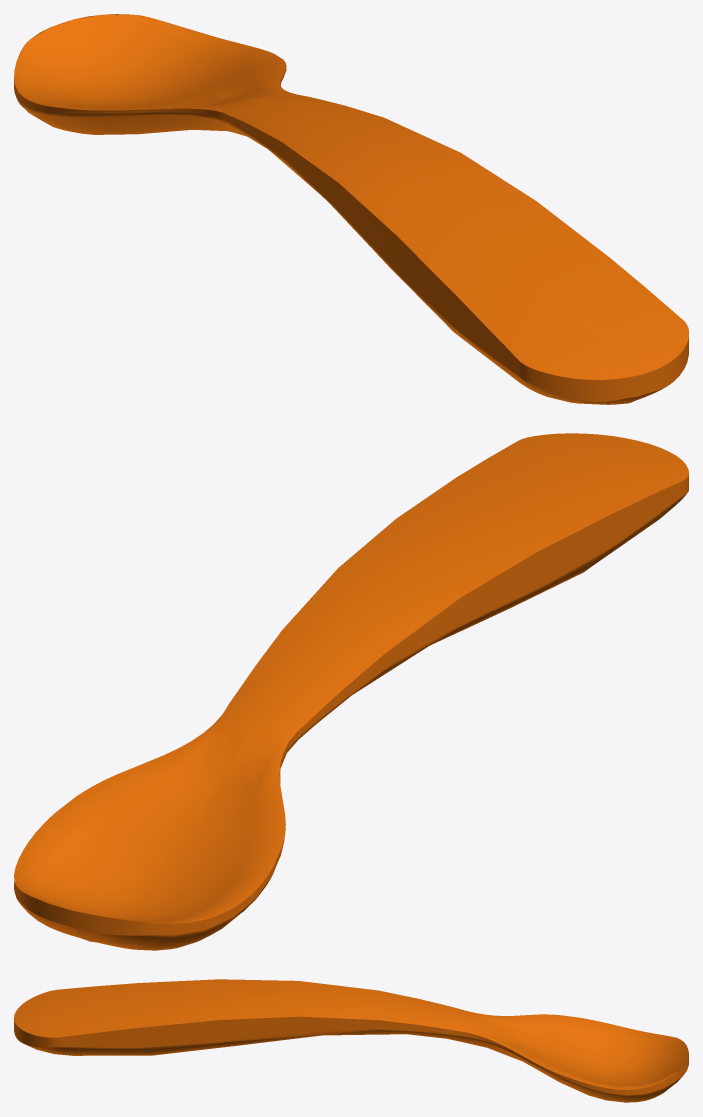
The picture shows the model from 3 angles, top to bottom: view 1: azimuth 30°, elevation 25°; view 2: azimuth 150°, elevation 25°; view 3: azimuth 270°, elevation 25°; orthographic projection. The views are drawn at different scales.
Parts seen in each view (by area): view 1: spuni1.1; view 2: spuni1.1; view 3: spuni1.1.
Boxes of the visible parts, x1,y1,x2,y2 form: spuni1.1: (14,14,688,404); spuni1.1: (14,433,688,950); spuni1.1: (14,979,688,1102).
Bounding box in the file's own units: 0.1839 × 0.1177 × 0.8042.
